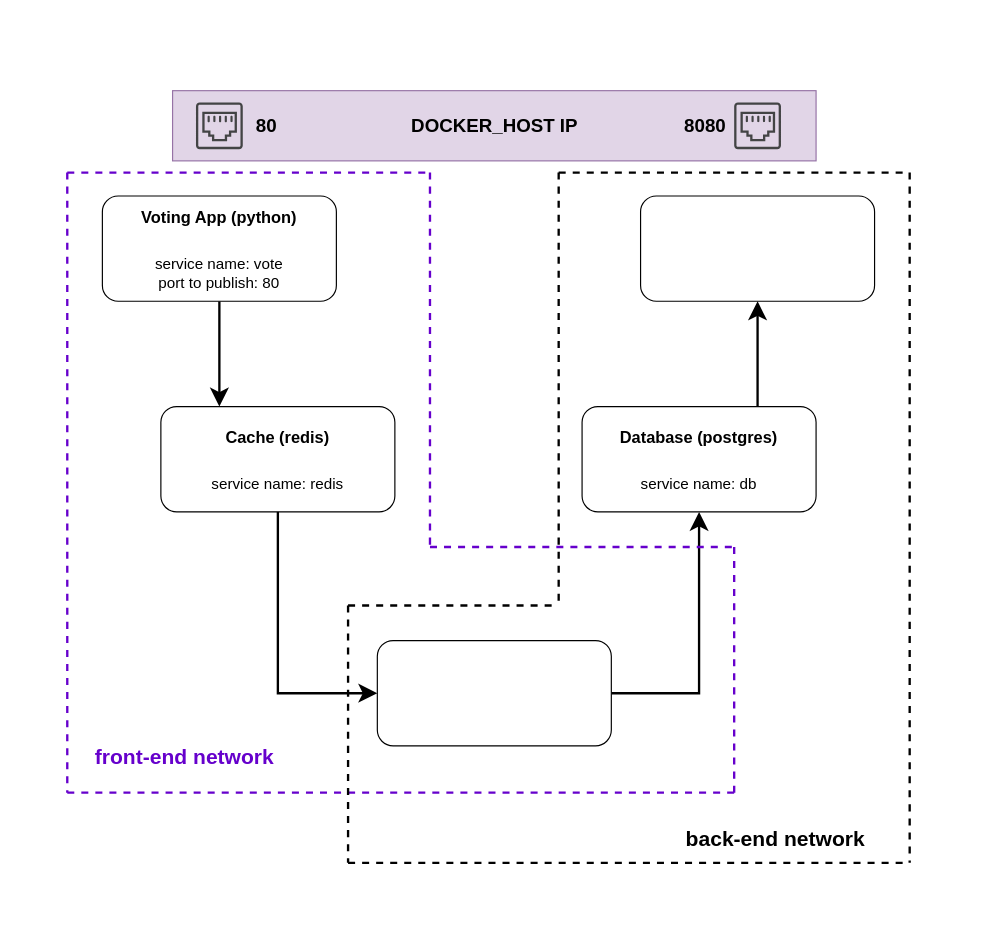
The diagram is 987 pixels wide and 941 high, and some of its shapes have lost their labels. The shapes that lost their labels are listed below. From the top down, each one's centre as x and y in pixels, then its label:
At point 757,248: "Vote results App (node.js) service name: result port to publish: 80".
At point 493,692: "Worker (.NET) service name: worker".
